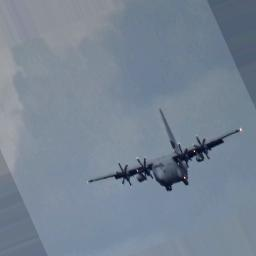Airplane: (86, 109, 242, 194)
